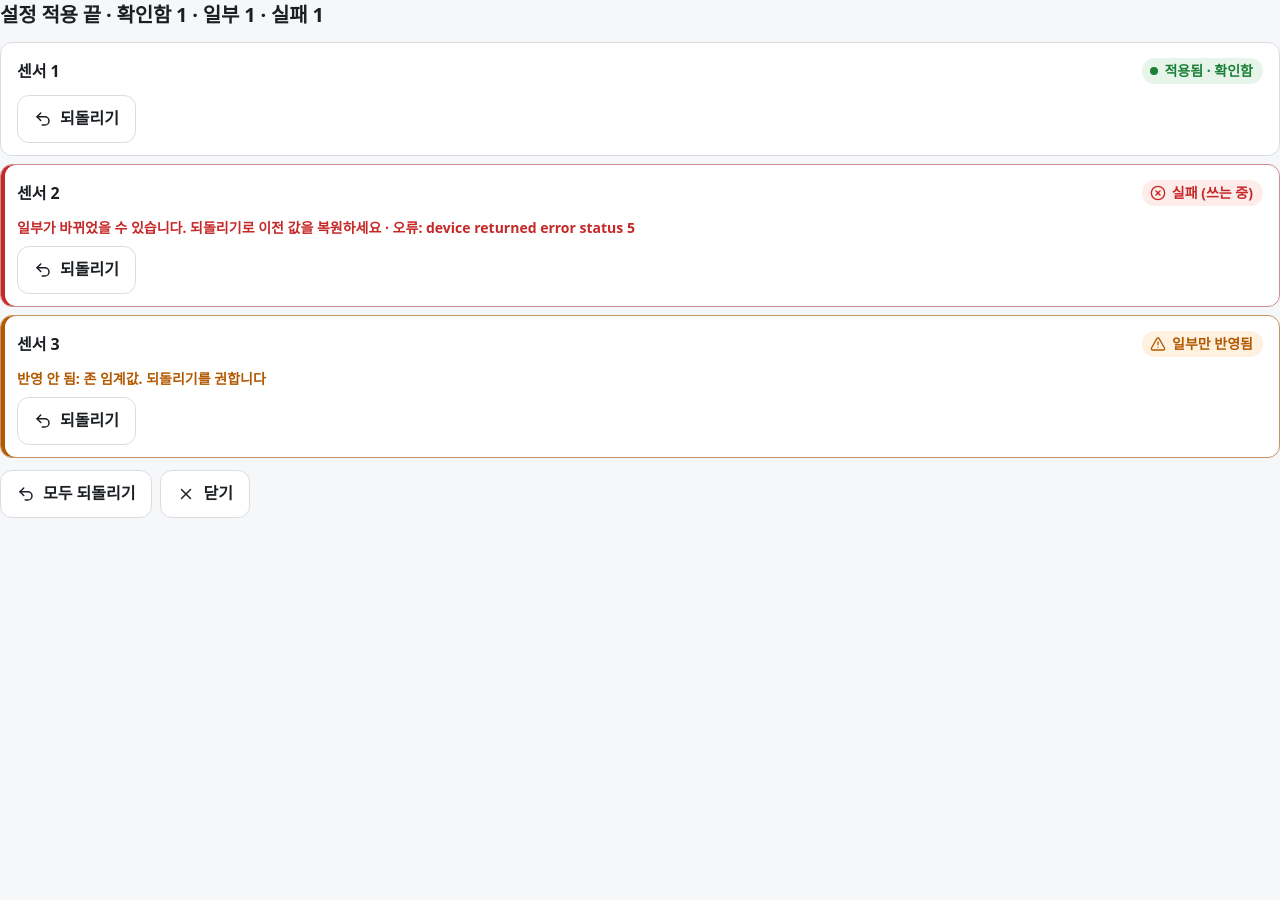
Test: ApplyResults › a row rollback opens the way-back preview for that sensor
The width and height of the screenshot is (1280, 900).
Click the button with aria-label "센서 2 되돌리기": (76, 270) [17,246,136,294]
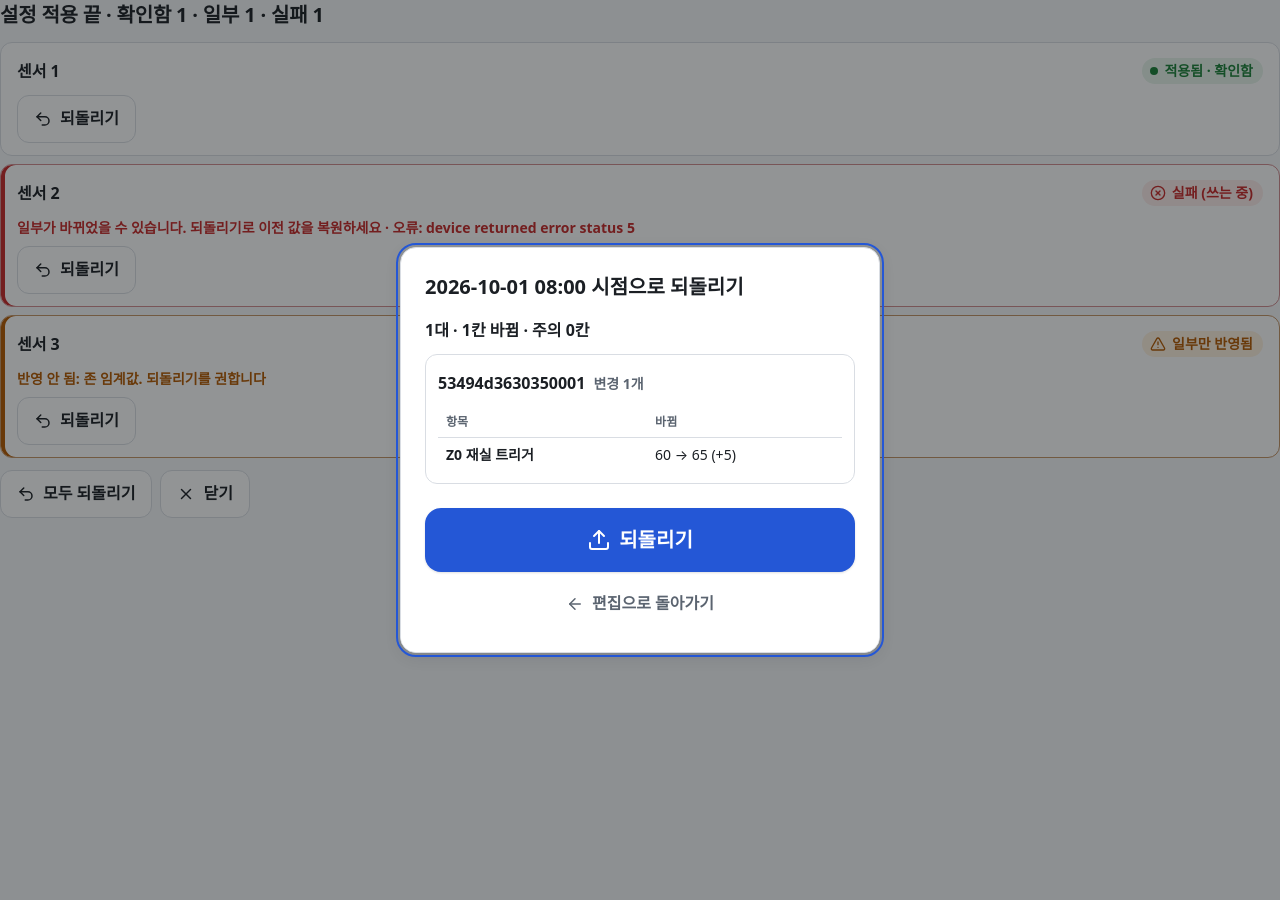
Now the dialog is shown, box [400,247,880,653]
